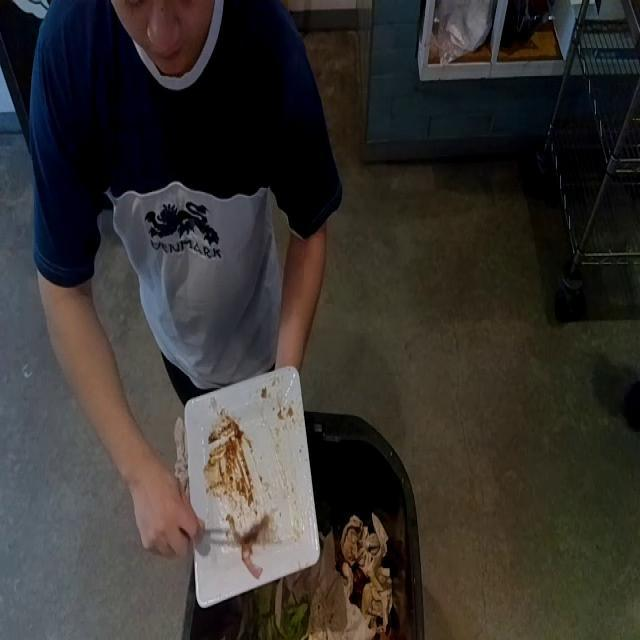Anorganik: (176, 363, 322, 595)
Organik: (190, 405, 262, 517)
